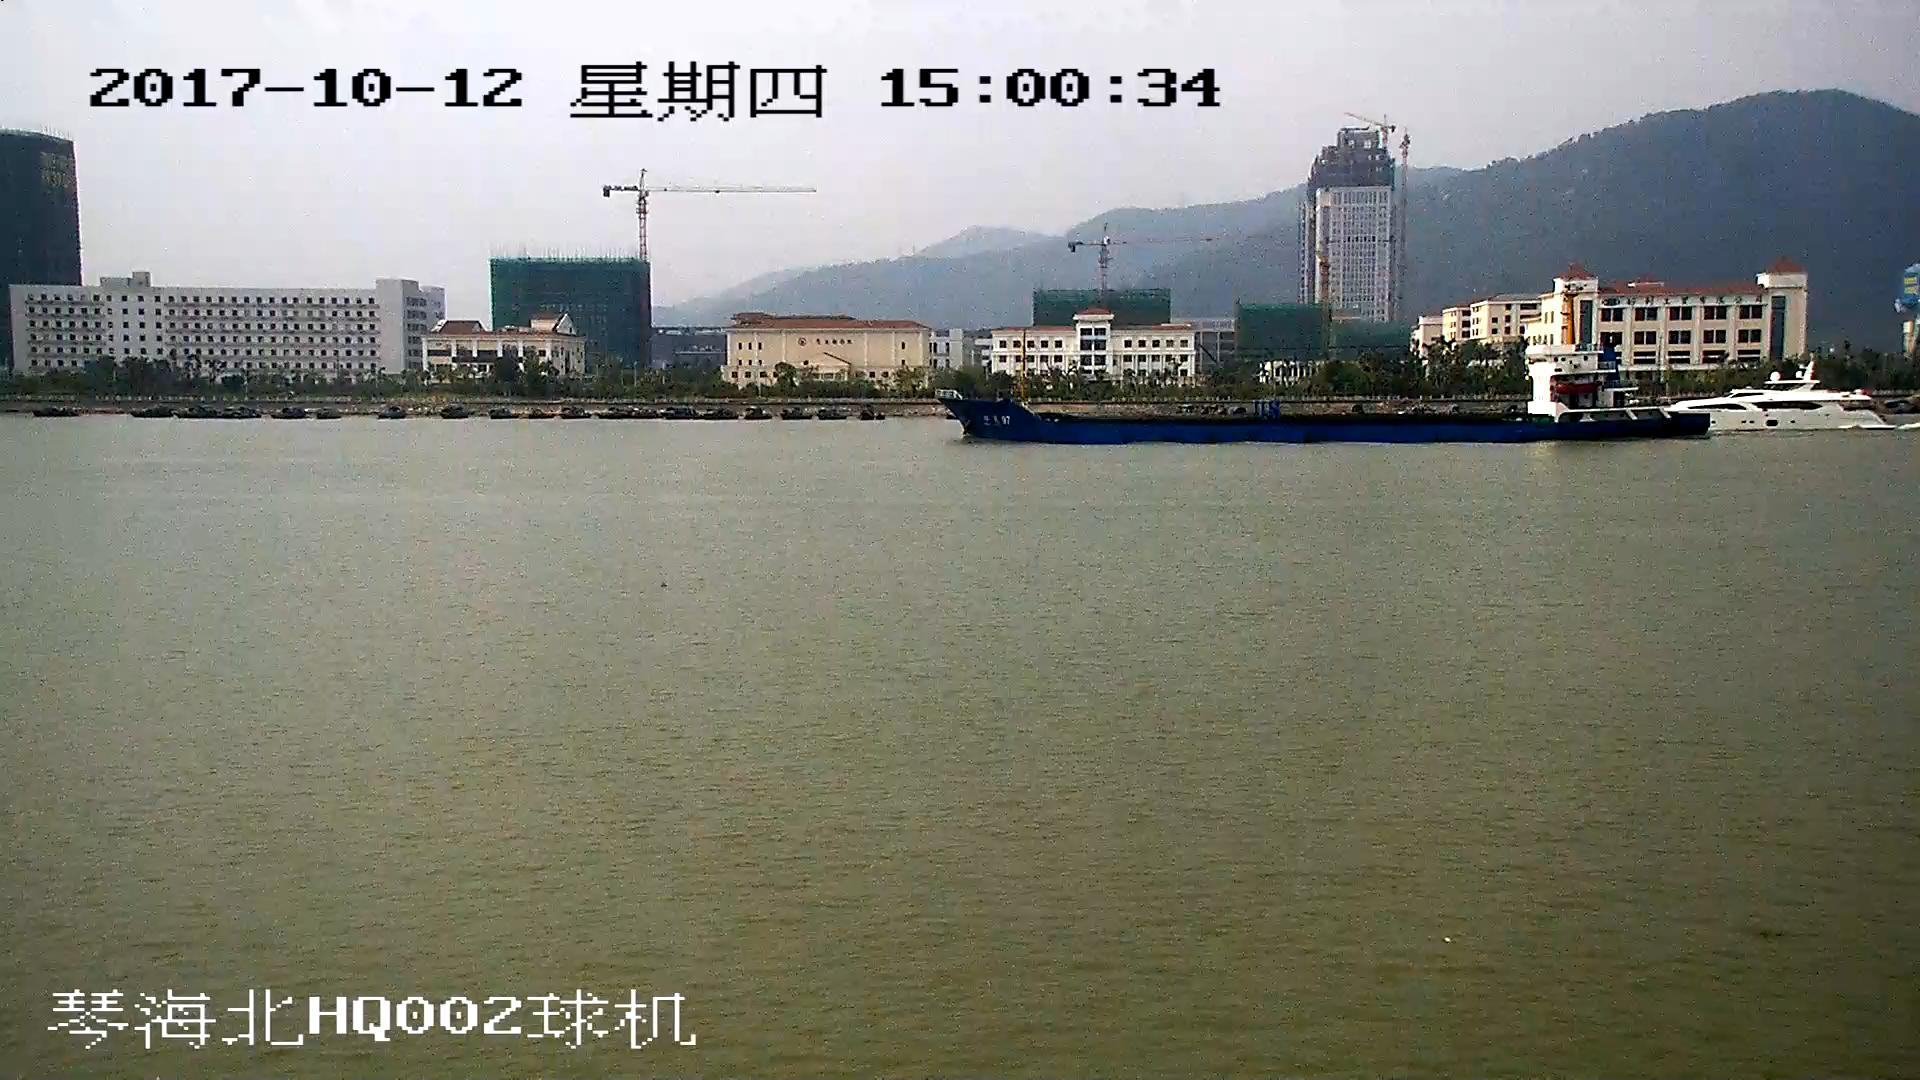general cargo ship: (939, 290, 1711, 445)
passenger ship: (1678, 362, 1894, 433)
